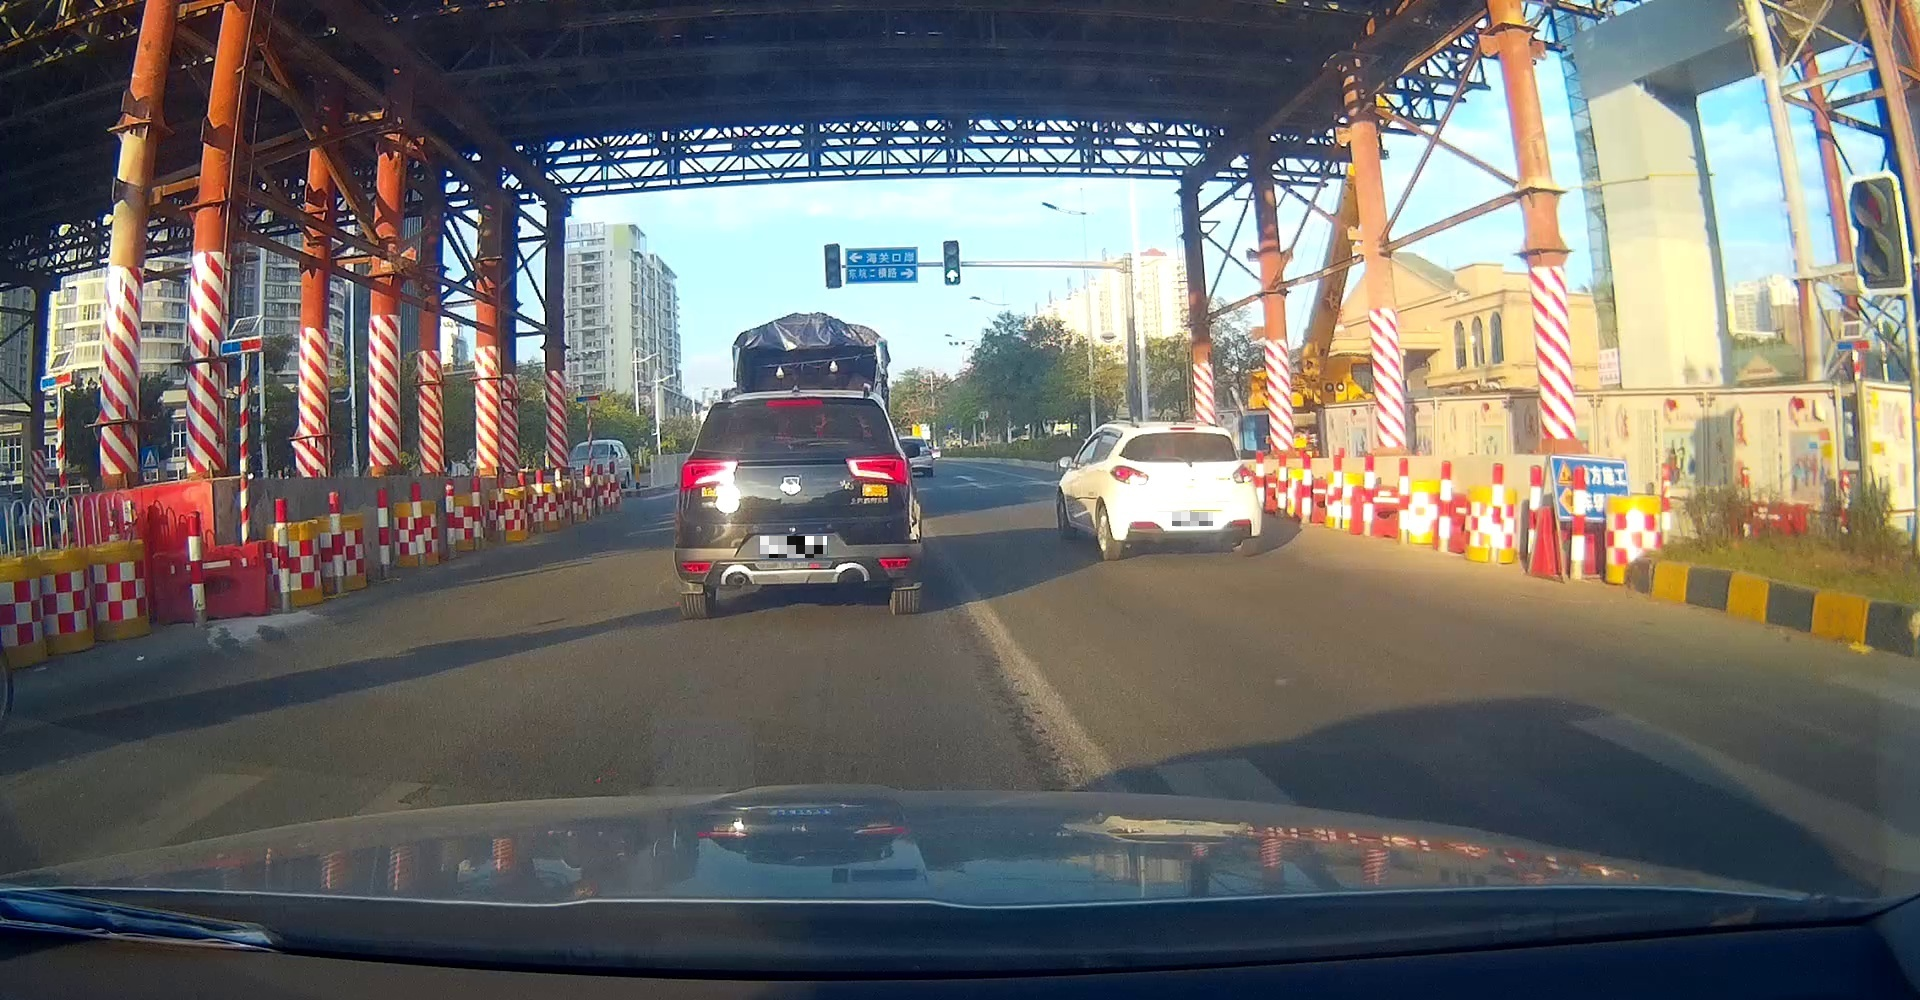L_light: (679, 459, 739, 490), (1109, 464, 1148, 485)
R_light: (846, 456, 908, 486), (1232, 463, 1255, 484)
T_light: (764, 398, 823, 406), (1170, 426, 1195, 430)
day-brake: (673, 390, 921, 617), (1109, 423, 1261, 560)
plate_1: (759, 536, 827, 558)
plate_2: (1172, 511, 1213, 525)
